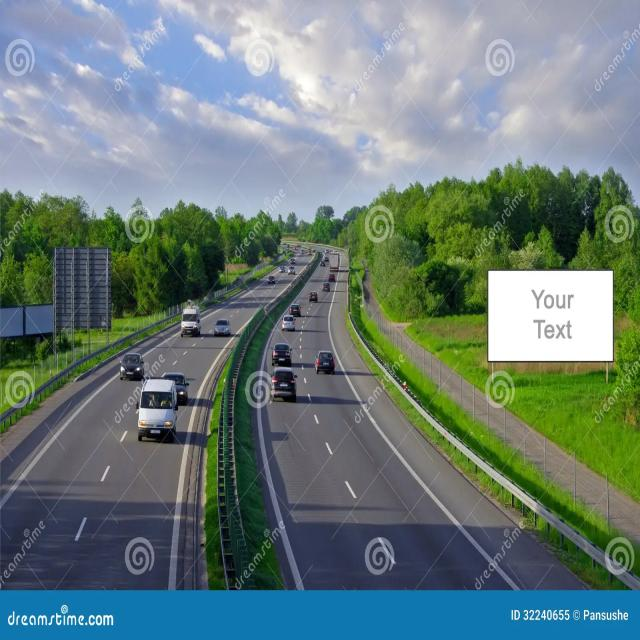Billboard_LHS: (49, 243, 114, 344), (1, 300, 47, 339)
Billboard_RHS: (476, 258, 624, 388)
Roadcorner: (318, 295, 544, 588), (156, 334, 232, 584), (0, 369, 119, 523), (251, 348, 315, 592)
Roadlane: (297, 370, 416, 582), (52, 410, 138, 588), (156, 334, 207, 373), (296, 308, 317, 377)
